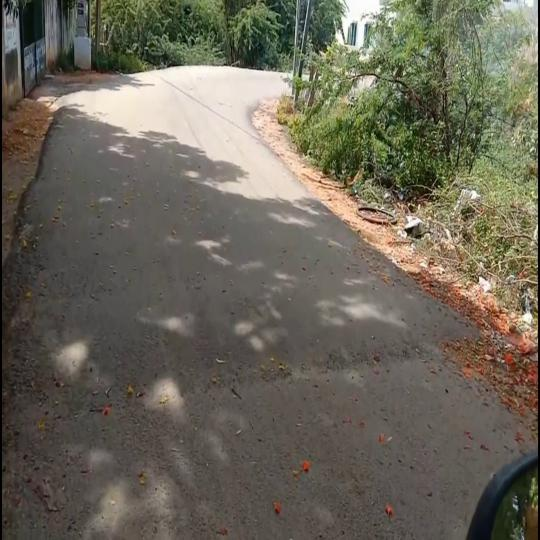Speed Bump: (6, 278, 479, 380)
